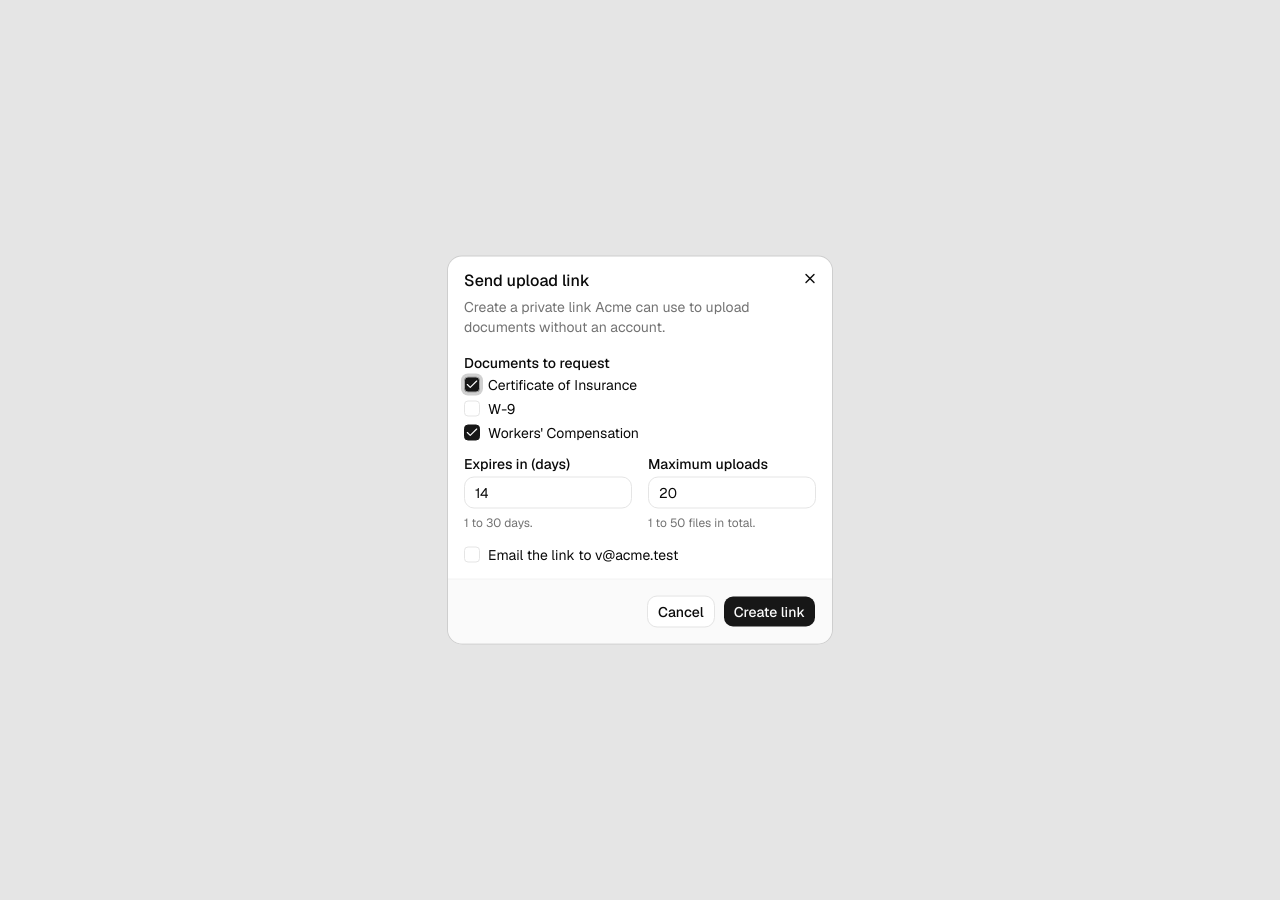
Test case: SendUploadLinkDialog › creates the link, shows the URL once with a copy button, and notifies the list
The image size is (1280, 900).
Click the checkbox named "Email the link to" next to "Email the link to v@acme.test".
click(472, 554)  # box [464,546,480,562]
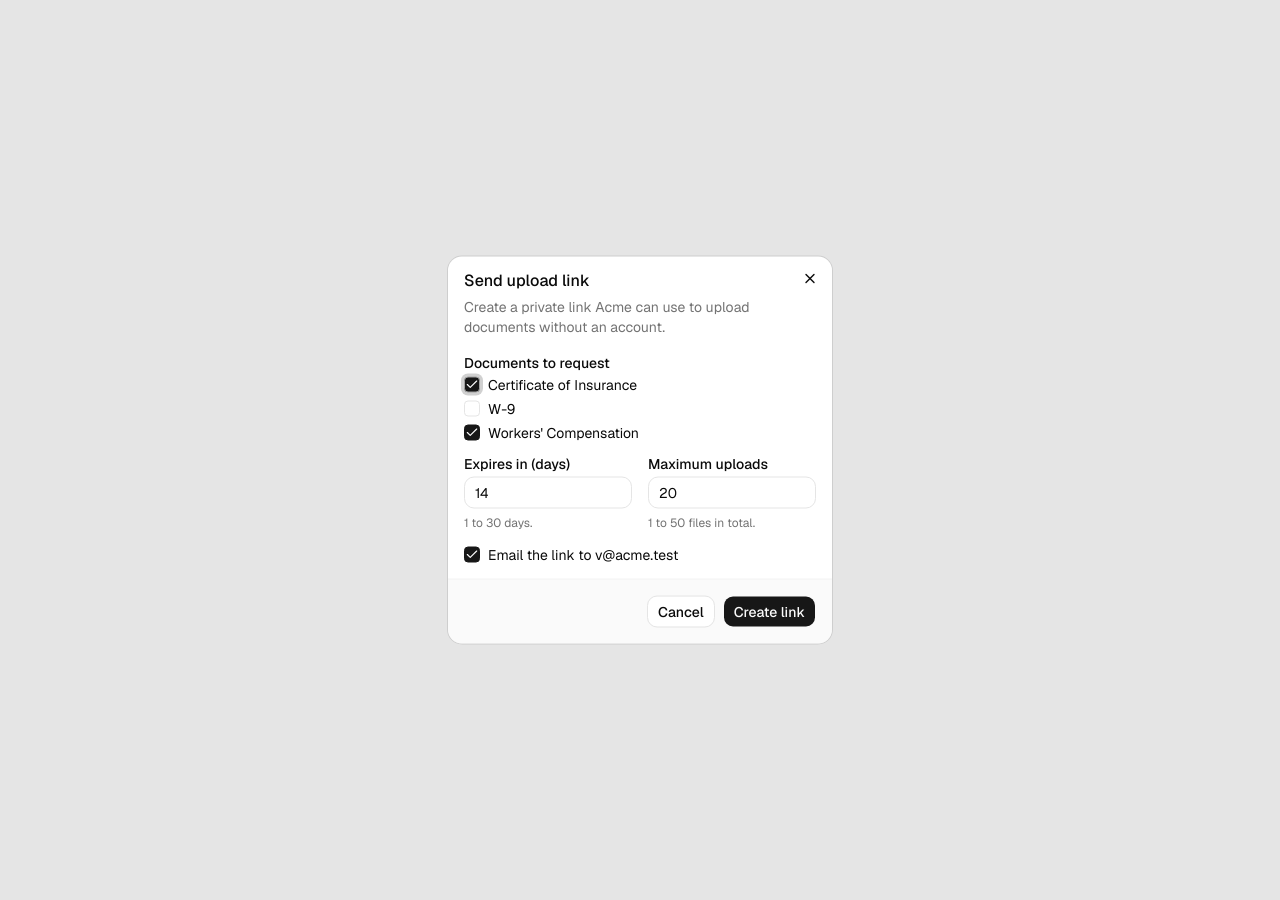
Click the button "Create link".
click(769, 612)  # box [723,596,816,628]
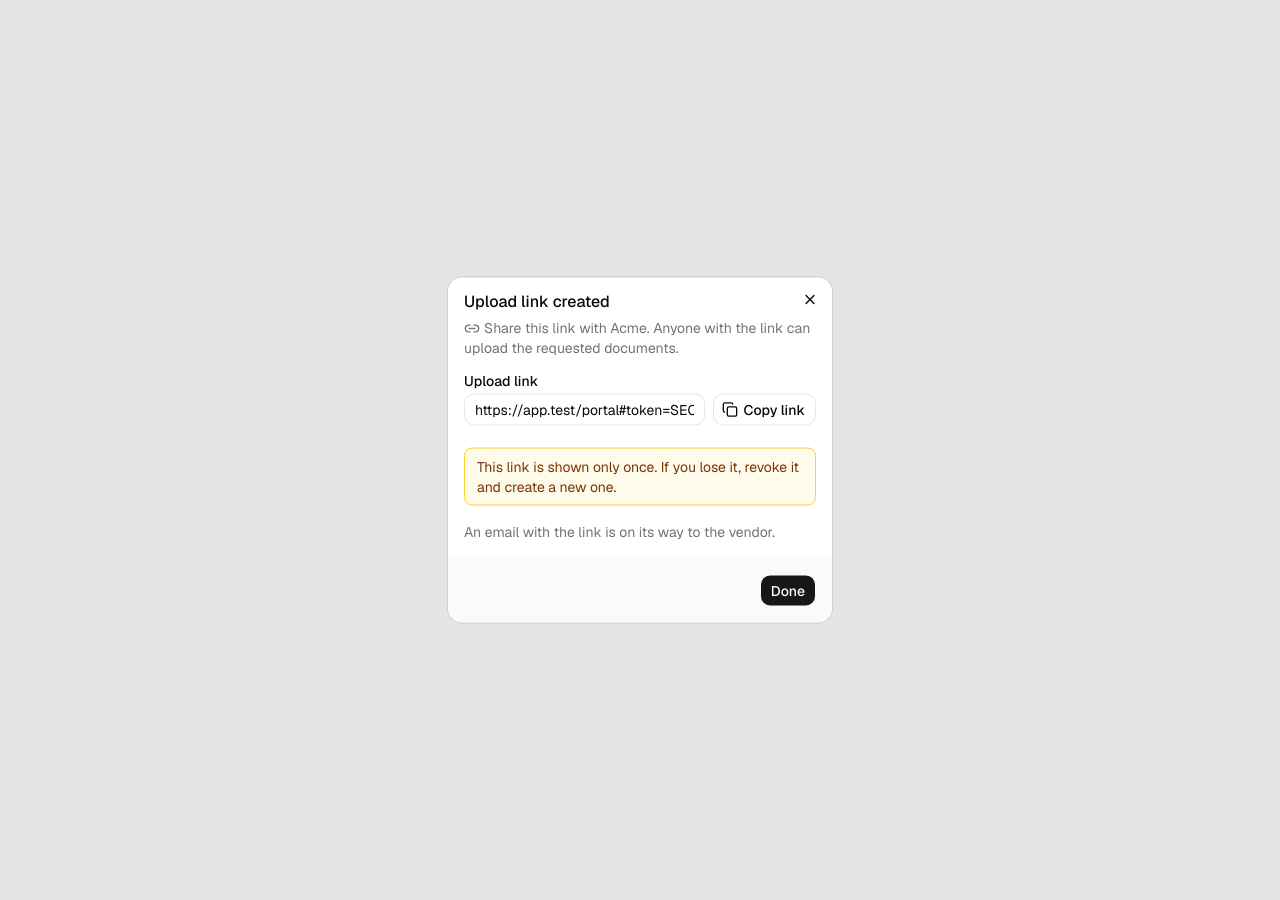
Result: the field labelled "Upload link" holds "https://app.test/portal#token=SECRET123" at [464,394,704,426]
Result: the text "shown only once" is shown at [477,458,799,496]
Result: the text "An email with the link is on its way to the vendor." is shown at [464,522,816,542]
Click the button "Copy link".
click(764, 410)  # box [712,394,816,426]
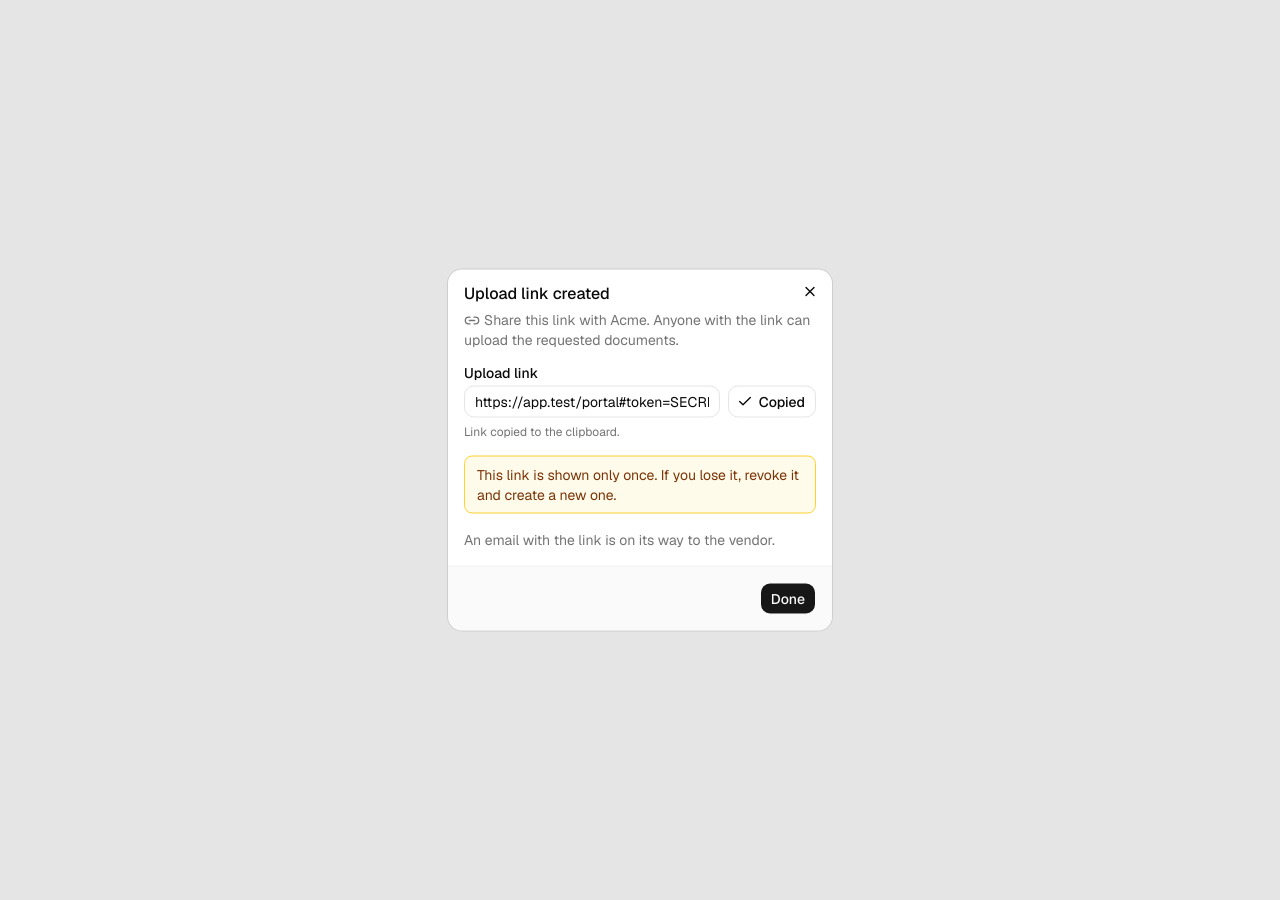
Result: the button "Copied" is shown at [728,386,816,418]
